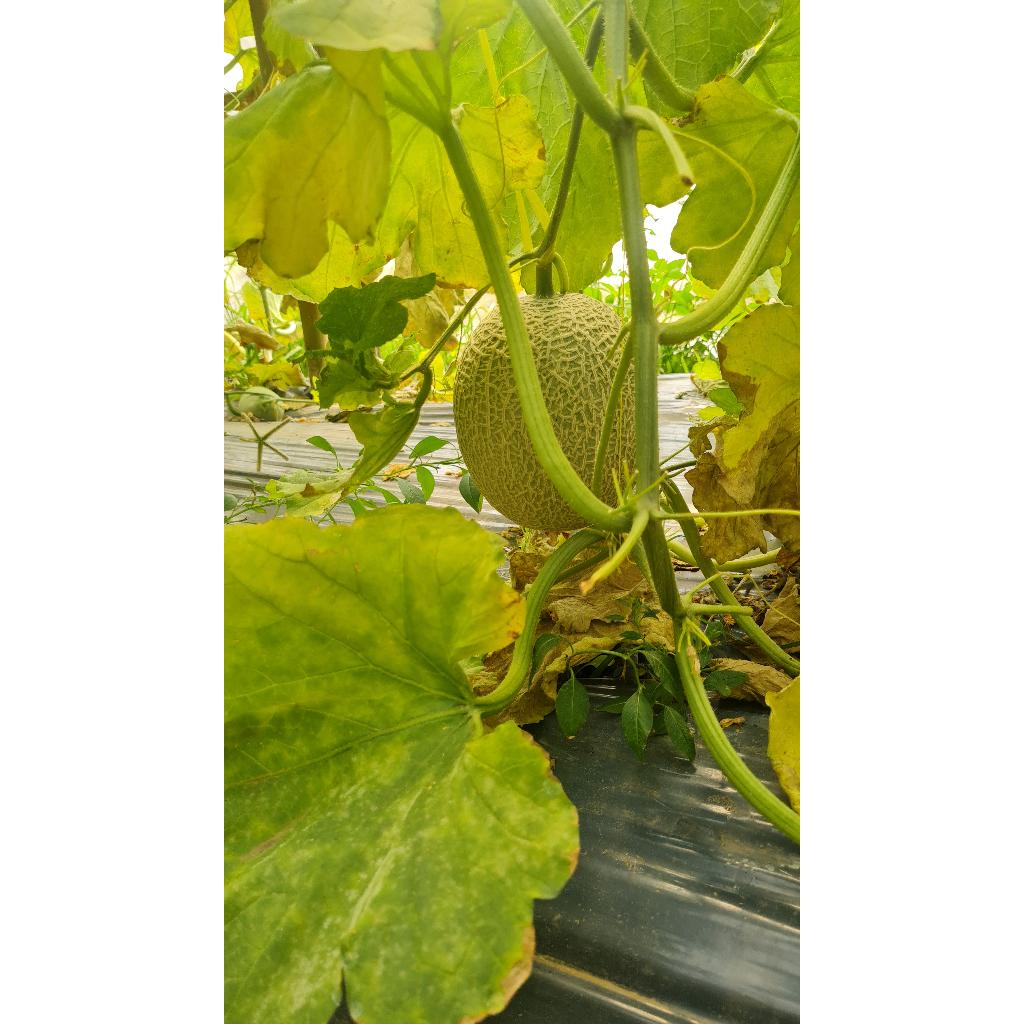melon: (454, 308, 584, 532), (520, 292, 622, 486), (602, 372, 636, 504)
